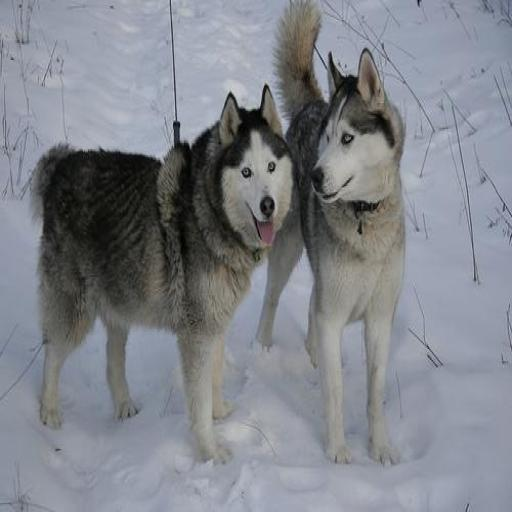dog_face: (316, 45, 394, 204), (221, 89, 289, 246)
